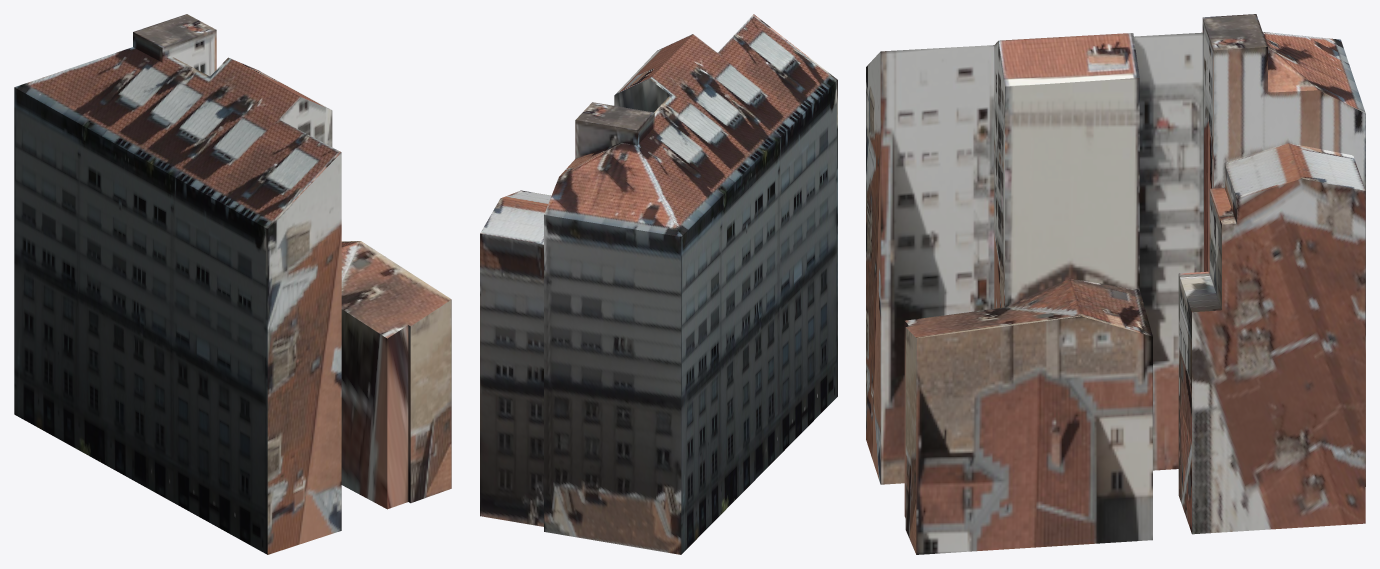
The picture shows the model from 3 angles, left to right: view 1: azimuth 30°, elevation 25°; view 2: azimuth 150°, elevation 25°; view 3: azimuth 270°, elevation 25°; orthographic projection. The views are drawn at different scales.
Parts seen in each view (by area): view 1: Z_UP; view 2: Z_UP; view 3: Z_UP.
Boxes of the visible parts, x1,y1,x2,y2 form: Z_UP: (14,14,451,554); Z_UP: (480,14,837,554); Z_UP: (866,14,1365,554).
Size of the model in its own units: 24.98 by 37.24 by 37.46.
2 materials, 1 textured.
